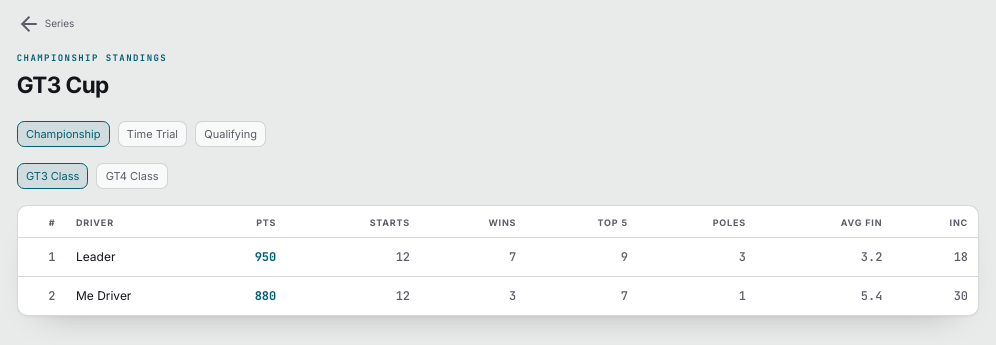
Test: StandingsPage › shows an empty-state for qualifying when there are no results
Expected: the text "Leader" is shown, [76, 249, 116, 264]
Click the button "Qualifying".
click(231, 134)  # box [195, 121, 266, 147]
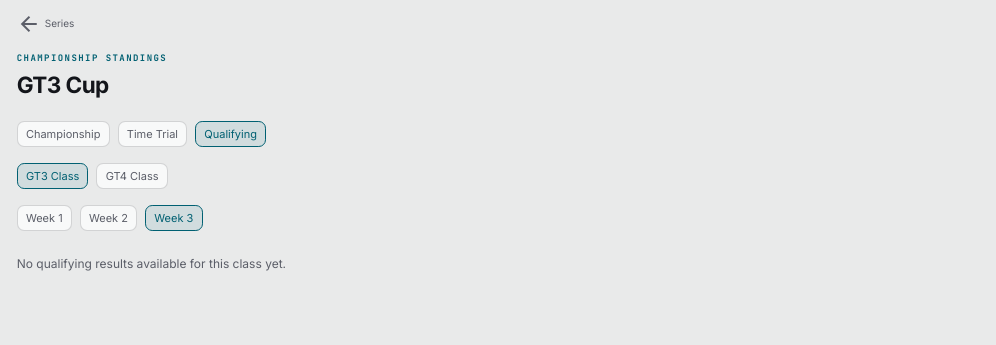
Expected: the text "No qualifying results available for this class yet." is shown, [17, 256, 286, 271]
